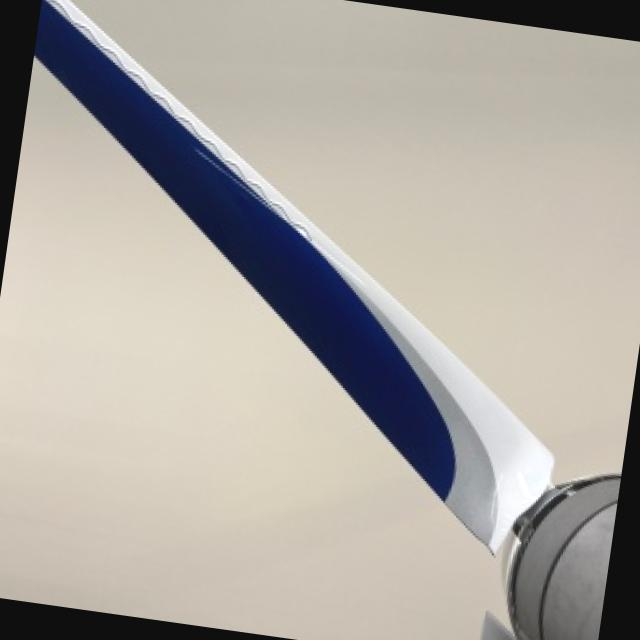healthy: (0, 58, 507, 640), (81, 0, 640, 480)
